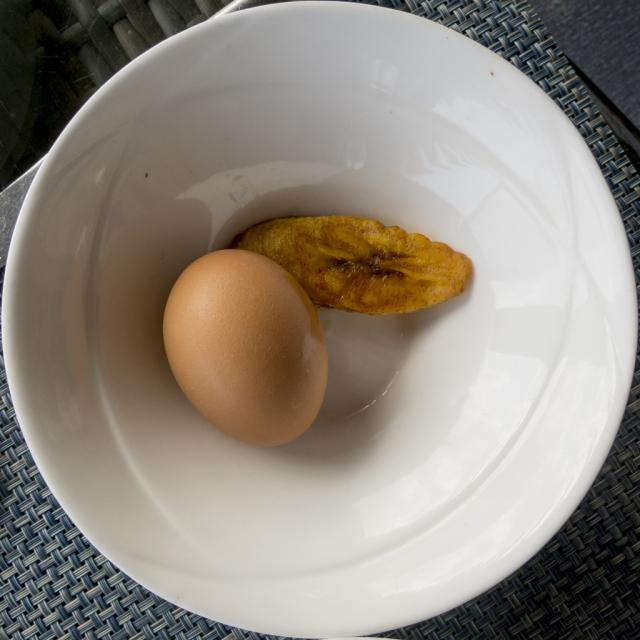Egg: (163, 248, 326, 444)
